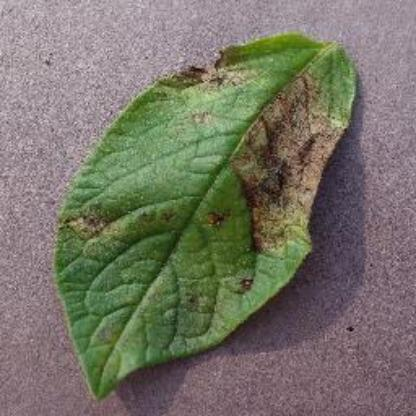Late-Blight: (30, 20, 378, 404)
